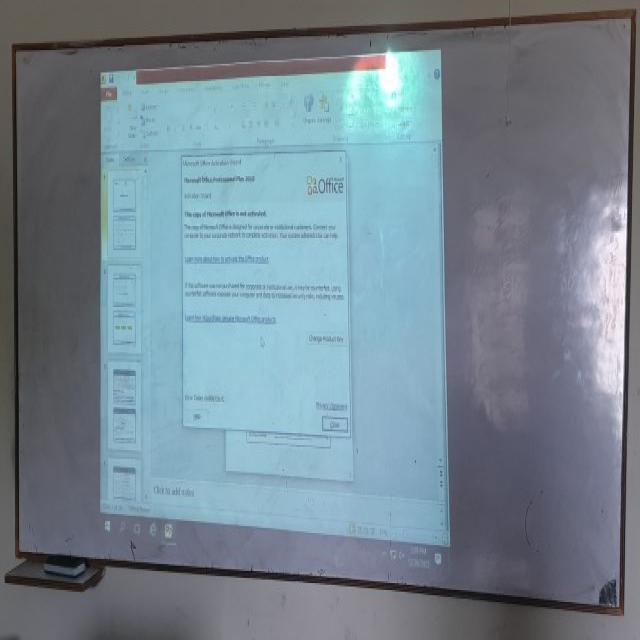Slide: (98, 51, 455, 573)
White-board: (16, 18, 638, 613)
